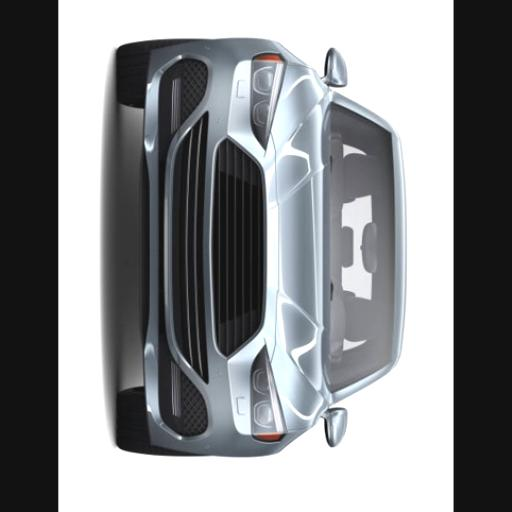sedan: (117, 39, 405, 455)
